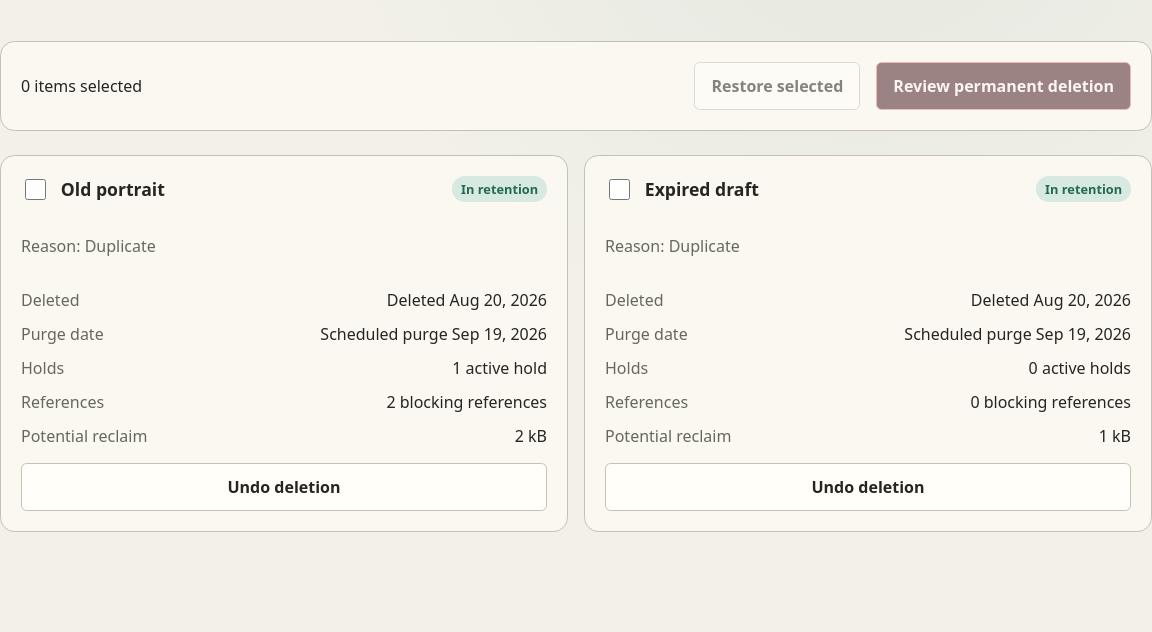
Scenario: trash › requires a dry run, reauthentication, and typed confirmation before purge
Click the checkbox named "Select Old portrait" at (35, 189), box [25, 179, 46, 200]
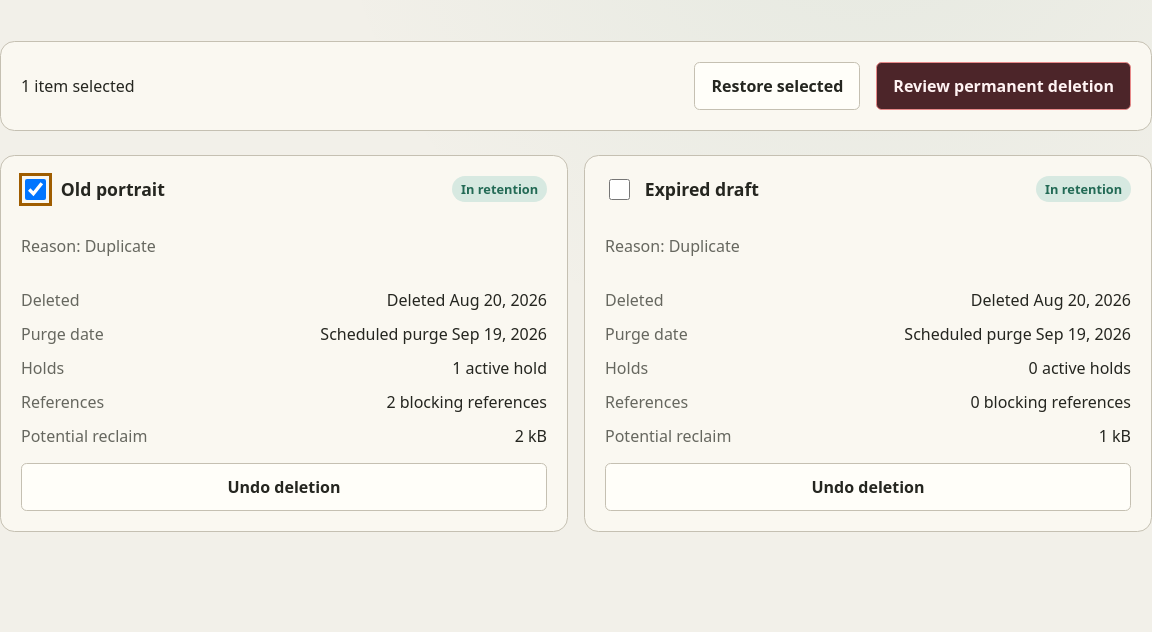
Click the checkbox named "Select Expired draft" at (619, 189), box [609, 179, 630, 200]
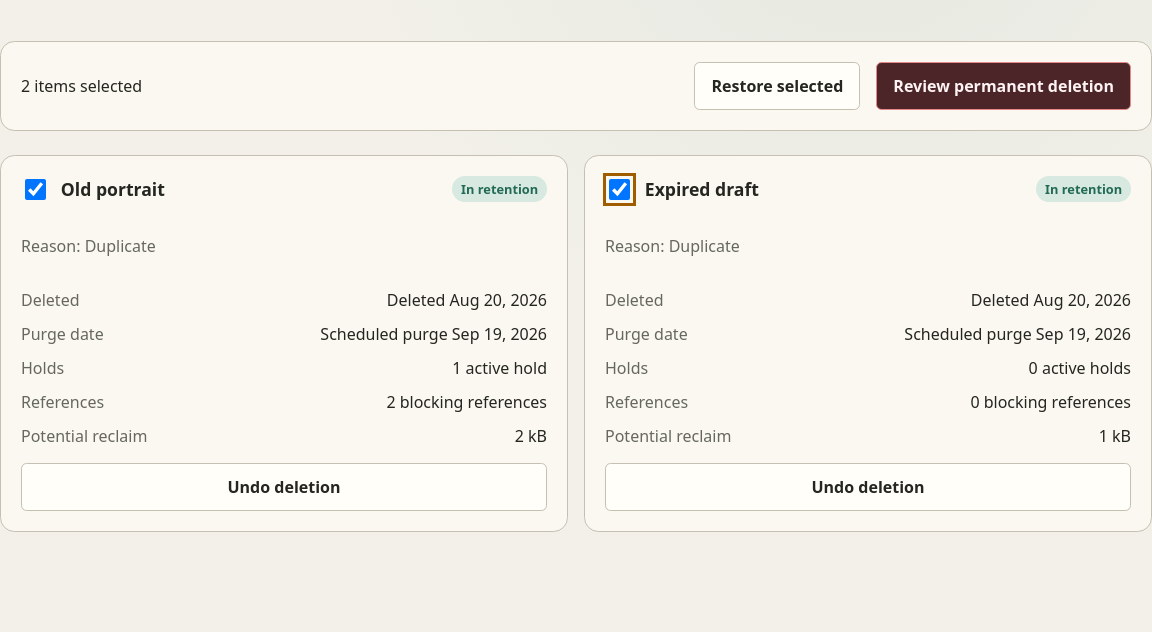
Click the button "Review permanent deletion" at (1004, 86), box [876, 62, 1131, 110]
(page scrolled)
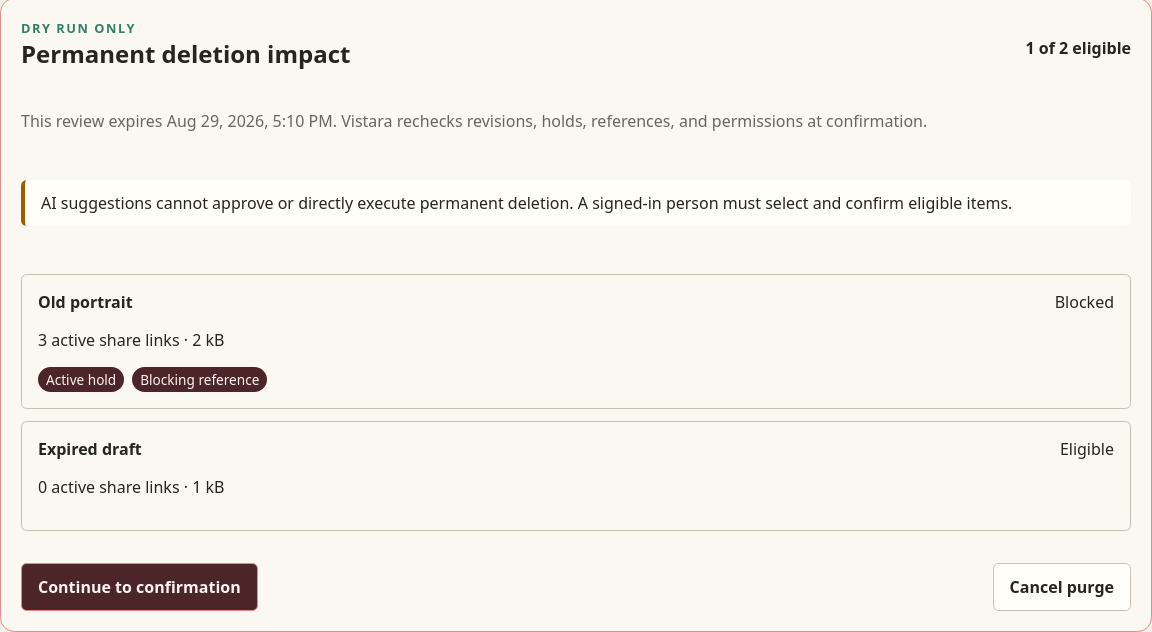
Expected: the text "3 active share links · 2 kB" is shown, [38, 329, 224, 351]
Expected: the list item "Active hold" is shown, [38, 367, 124, 392]
Expected: the list item "Blocking reference" is shown, [132, 367, 267, 392]
Click the button "Continue to confirmation" at (139, 587), box [21, 563, 258, 611]
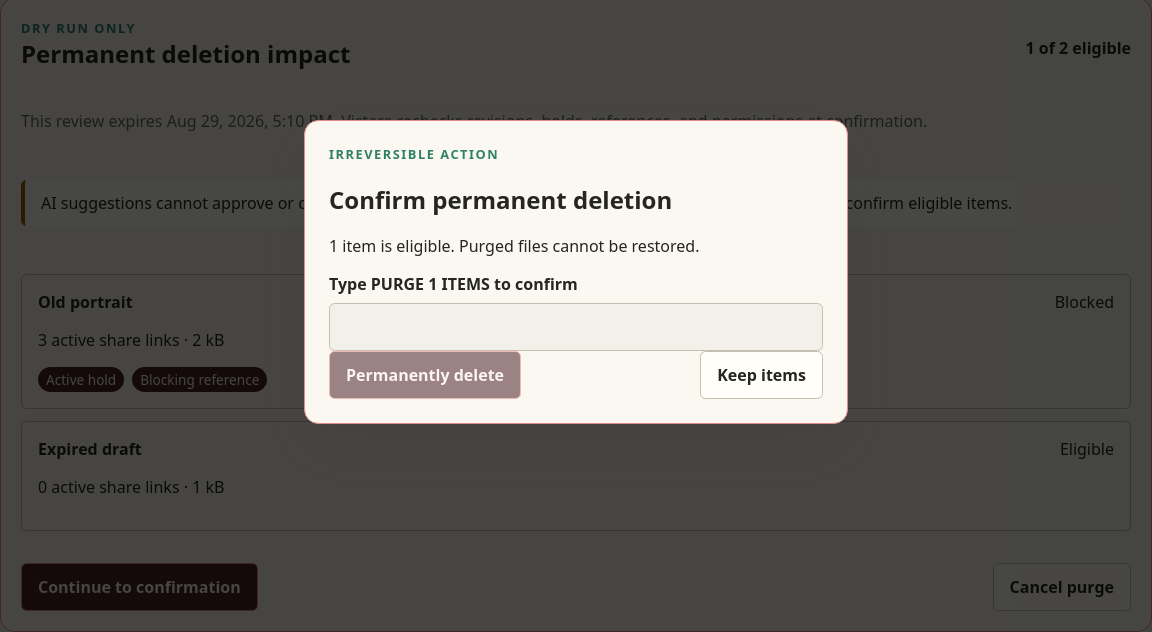
Expected: the button "Permanently delete" is disabled, [329, 351, 521, 399]
Type "PURGE 1 ITEMS" into the field labelled "Type PURGE 1 ITEMS to confirm" at (576, 327), box [329, 303, 823, 351]
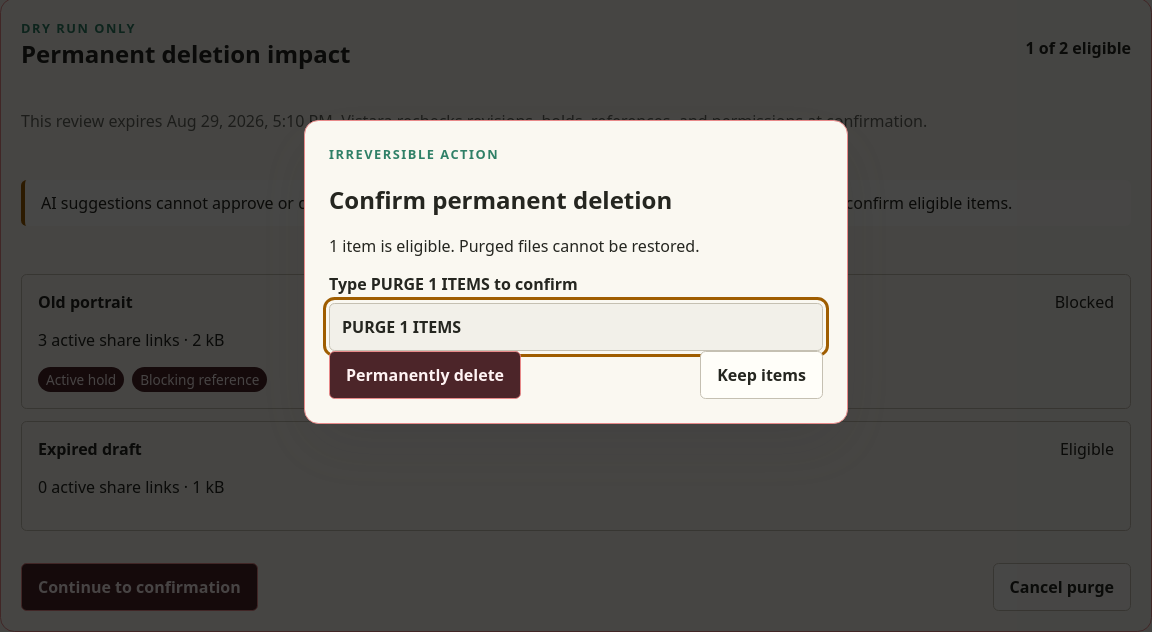
Expected: the button "Permanently delete" is enabled
Click the button "Permanently delete" at (425, 375), box [329, 351, 521, 399]
(page scrolled)
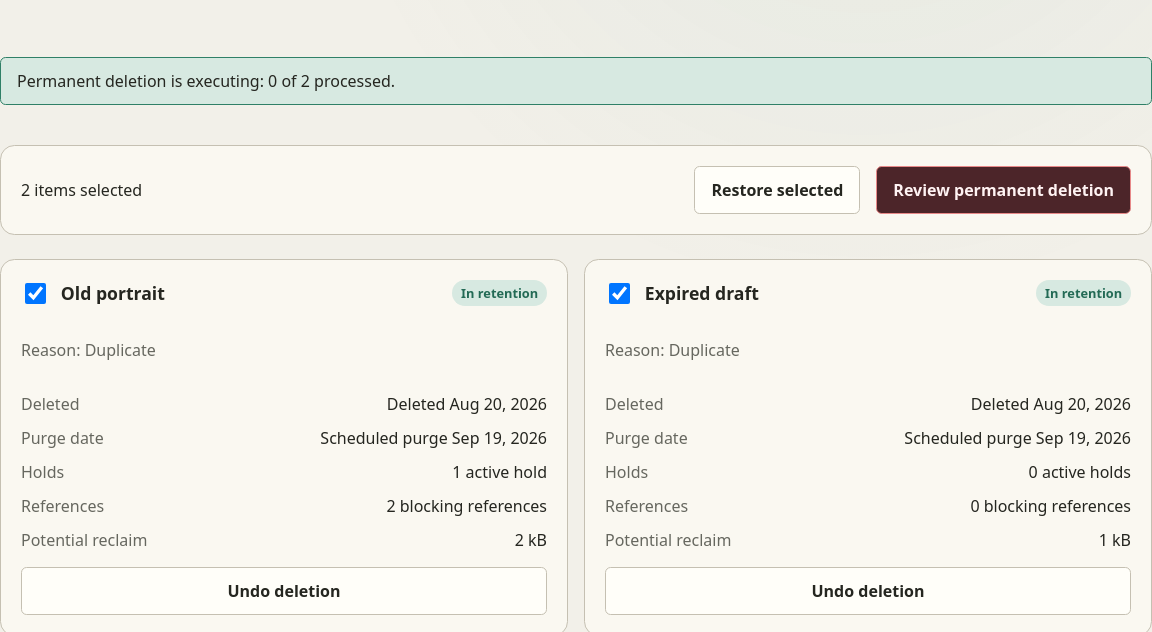
Expected: the message reads "Permanent deletion is executing: 0 of 2 processed.", [17, 70, 395, 92]
